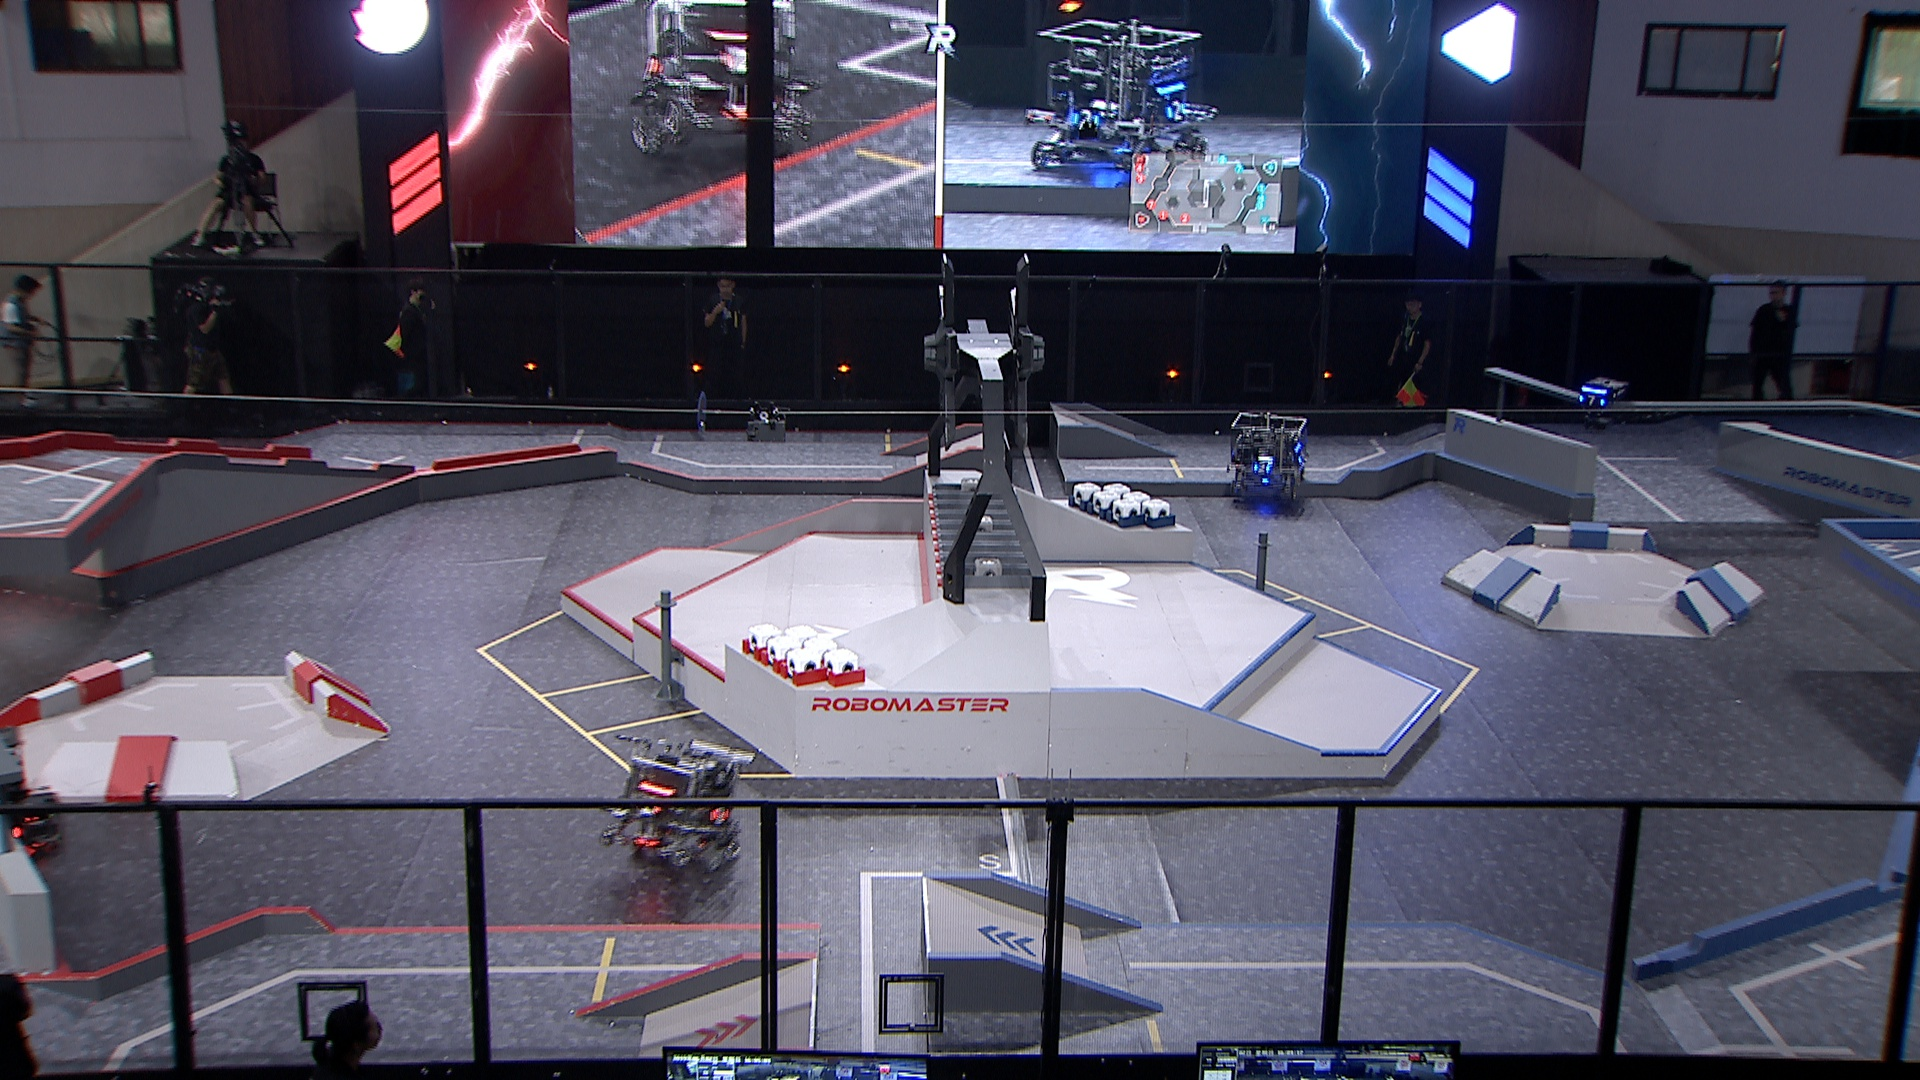armor: (1576, 392, 1607, 410), (707, 806, 731, 825), (1249, 462, 1273, 476), (1296, 450, 1307, 465)
car: (599, 737, 754, 876), (1228, 409, 1313, 504)
ignore: (1025, 20, 1220, 182)
watcher: (1575, 375, 1626, 433)
